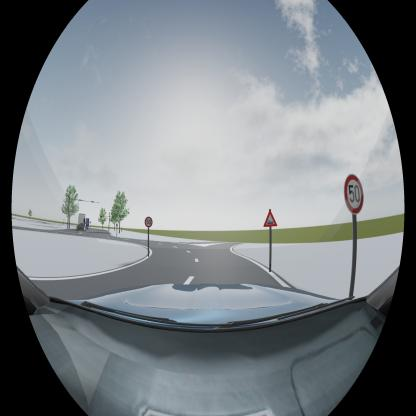Speed Limit 50: (344, 174, 365, 213), (144, 217, 152, 227)
